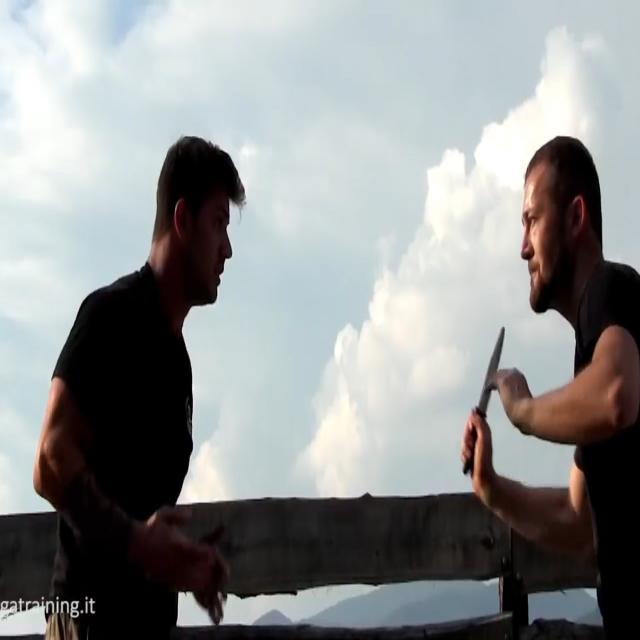knife: (457, 325, 510, 475)
